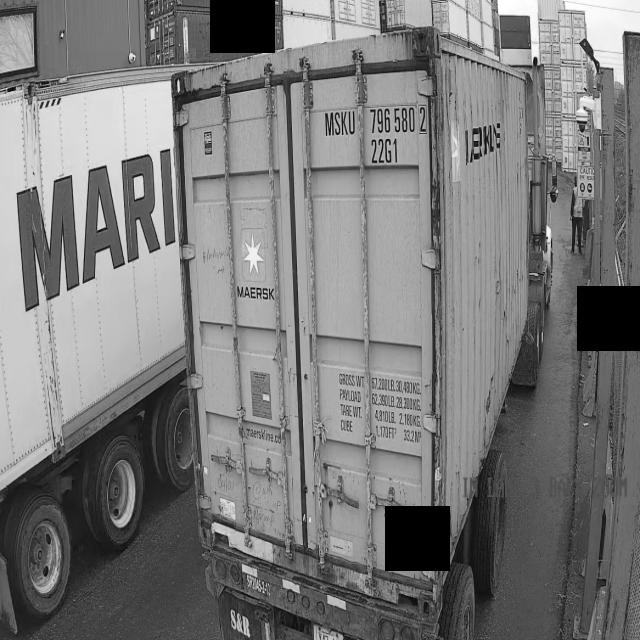container_company_logo: (235, 228, 272, 309)
container_number: (323, 107, 429, 169)
driver: (566, 176, 580, 252)
license_plate: (309, 627, 348, 640)
other_container_info: (336, 365, 422, 448)
truck_with_container: (173, 27, 558, 640), (0, 71, 186, 640)
